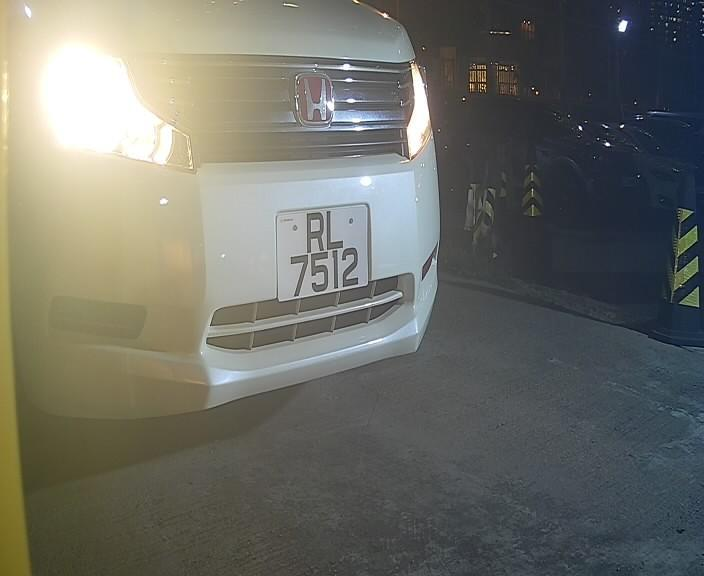Car: (4, 26, 547, 456)
License Plate: (265, 193, 381, 312)
